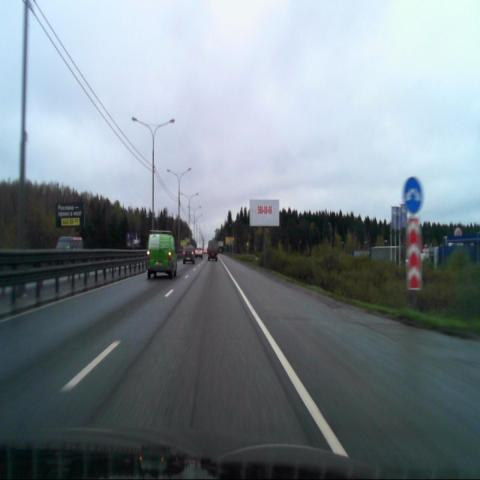4_2_3: (404, 176, 422, 213)
